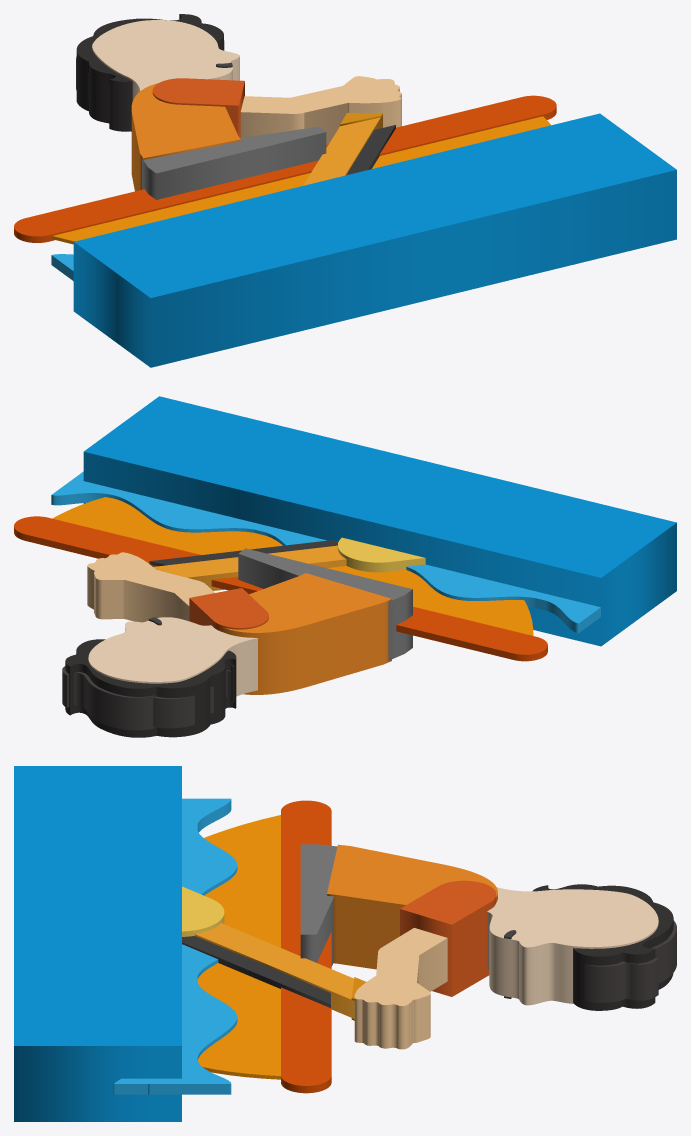
The model's file is emoji_u1f6a3_1f3fb.glb.
3 views of the same model, one above another, from view 1: azimuth 30°, elevation 25°; view 2: azimuth 150°, elevation 25°; view 3: azimuth 270°, elevation 25° (orthographic). The views are drawn at different scales.
Visible parts, largest first — view 1: emoji_u1f6a3_1f3fb; view 2: emoji_u1f6a3_1f3fb; view 3: emoji_u1f6a3_1f3fb.
Part boxes in pixels (x1,y1,x2,y2): emoji_u1f6a3_1f3fb: [14, 14, 676, 367]; emoji_u1f6a3_1f3fb: [14, 396, 676, 737]; emoji_u1f6a3_1f3fb: [14, 766, 676, 1121].
Bounding box in the file's own units: 0.0339 × 0.0042 × 0.0332.
